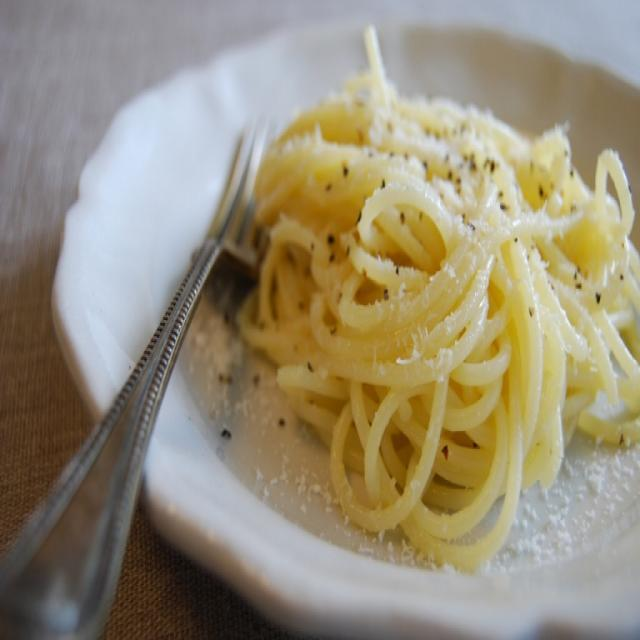Oil pasta: (219, 52, 630, 562)
